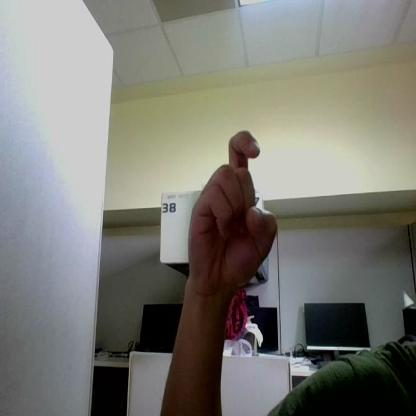X: (188, 131, 276, 282)
